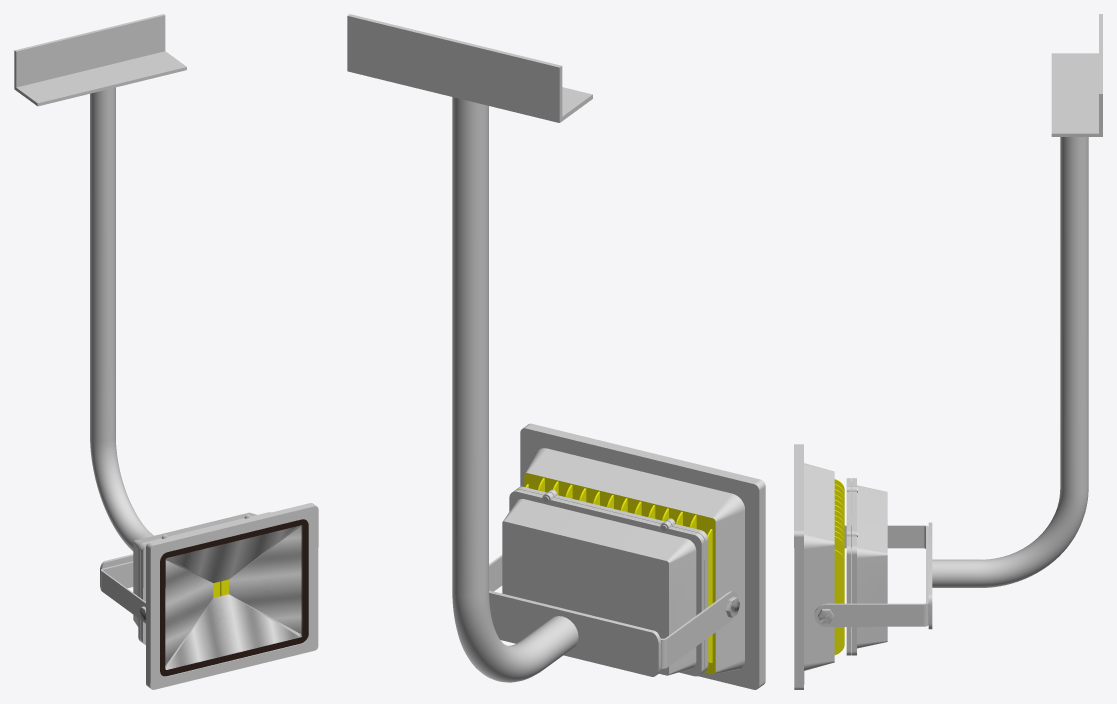
The model's file is Arm-Light-V3.glb.
3 renders of one model, left to right at view 1: azimuth 30°, elevation 25°; view 2: azimuth 150°, elevation 25°; view 3: azimuth 270°, elevation 25°, orthographic. The views are drawn at different scales.
Visible parts, largest first — view 1: 3DGeom-2, 3DGeom-12, 3DGeom-11, 3DGeom-1, 3DGeom-3, 3DGeom-5, 3DGeom-9; view 2: 3DGeom-12, 3DGeom-5, 3DGeom-1, 3DGeom-11, 3DGeom-10, 3DGeom-4, 3DGeom-9; view 3: 3DGeom-12, 3DGeom-1, 3DGeom-5, 3DGeom-11, 3DGeom-9, 3DGeom-4, 3DGeom-10.
Part boxes in pixels (left/top/right/bottom): 3DGeom-2: left=165, top=525, right=302, bottom=669; 3DGeom-12: left=90, top=87, right=153, bottom=551; 3DGeom-11: left=14, top=14, right=186, bottom=106; 3DGeom-1: left=146, top=503, right=318, bottom=689; 3DGeom-3: left=160, top=519, right=308, bottom=676; 3DGeom-5: left=133, top=512, right=270, bottom=644; 3DGeom-9: left=101, top=561, right=145, bottom=623; 3DGeom-12: left=452, top=97, right=578, bottom=682; 3DGeom-5: left=502, top=486, right=708, bottom=676; 3DGeom-1: left=520, top=423, right=765, bottom=689; 3DGeom-11: left=347, top=14, right=592, bottom=122; 3DGeom-10: left=489, top=590, right=660, bottom=676; 3DGeom-4: left=524, top=473, right=715, bottom=674; 3DGeom-9: left=489, top=555, right=737, bottom=668; 3DGeom-12: left=932, top=137, right=1088, bottom=587; 3DGeom-1: left=794, top=444, right=834, bottom=689; 3DGeom-5: left=846, top=478, right=887, bottom=655; 3DGeom-11: left=1051, top=14, right=1102, bottom=136; 3DGeom-9: left=814, top=525, right=928, bottom=626; 3DGeom-4: left=834, top=479, right=844, bottom=654; 3DGeom-10: left=928, top=522, right=932, bottom=629.
Bounding box in the file's own units: 0.1125 × 0.3435 × 0.1629.
5 materials, 3 textured.
